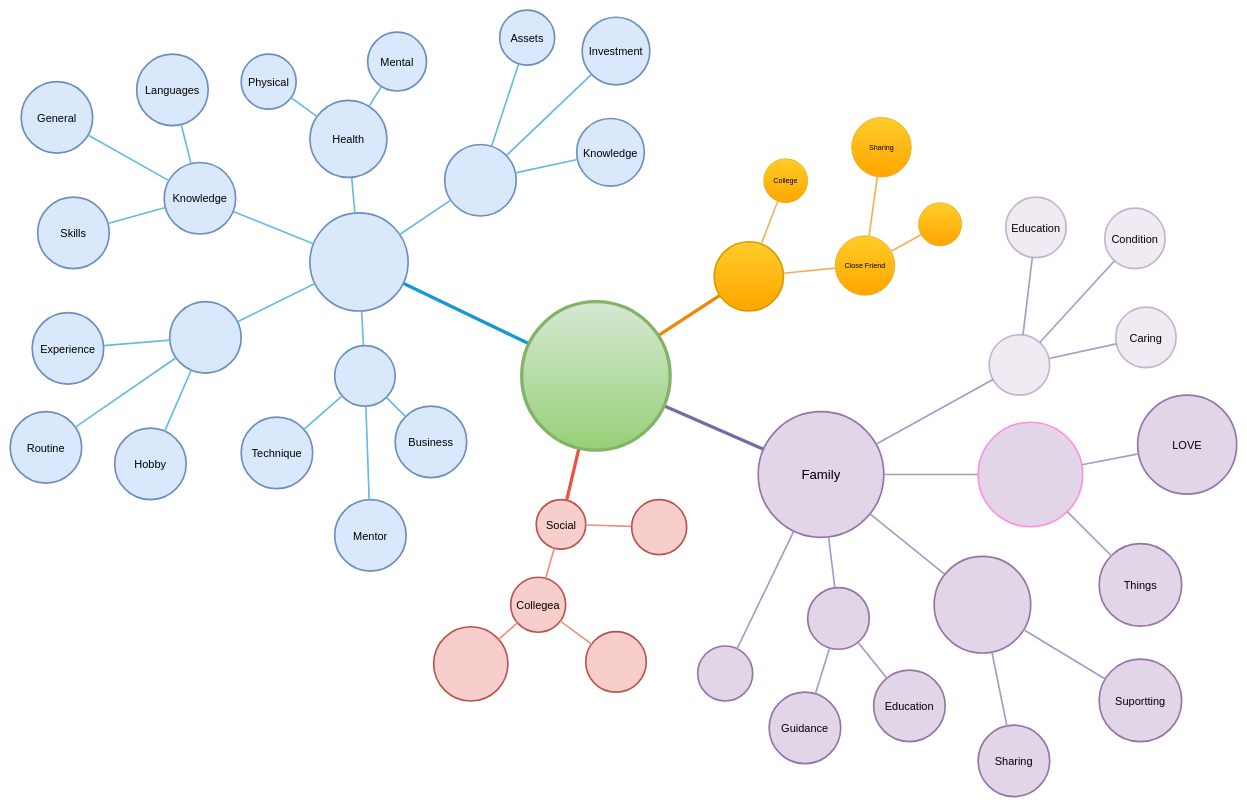
This 1247x807 diagram has some shape labels left out. Here are the shapes that lost their labels. From the top down, the box of each, then its label:
(444, 143, 517, 217): Finance
(918, 202, 962, 246): Helping
(309, 212, 409, 312): Myself
(713, 241, 784, 312): Friends
(169, 301, 242, 374): Lifestyle
(334, 345, 396, 407): Career
(520, 300, 672, 452): MY LIFE
(988, 334, 1050, 396): Children
(977, 421, 1083, 527): Wife
(631, 499, 687, 555): Other
(807, 587, 870, 650): Brothers
(933, 555, 1031, 654): Parents & Grand parent
(433, 626, 508, 702): Collaboration
(585, 631, 647, 693): Mentor Mentee
(697, 645, 753, 702): Family Relative
